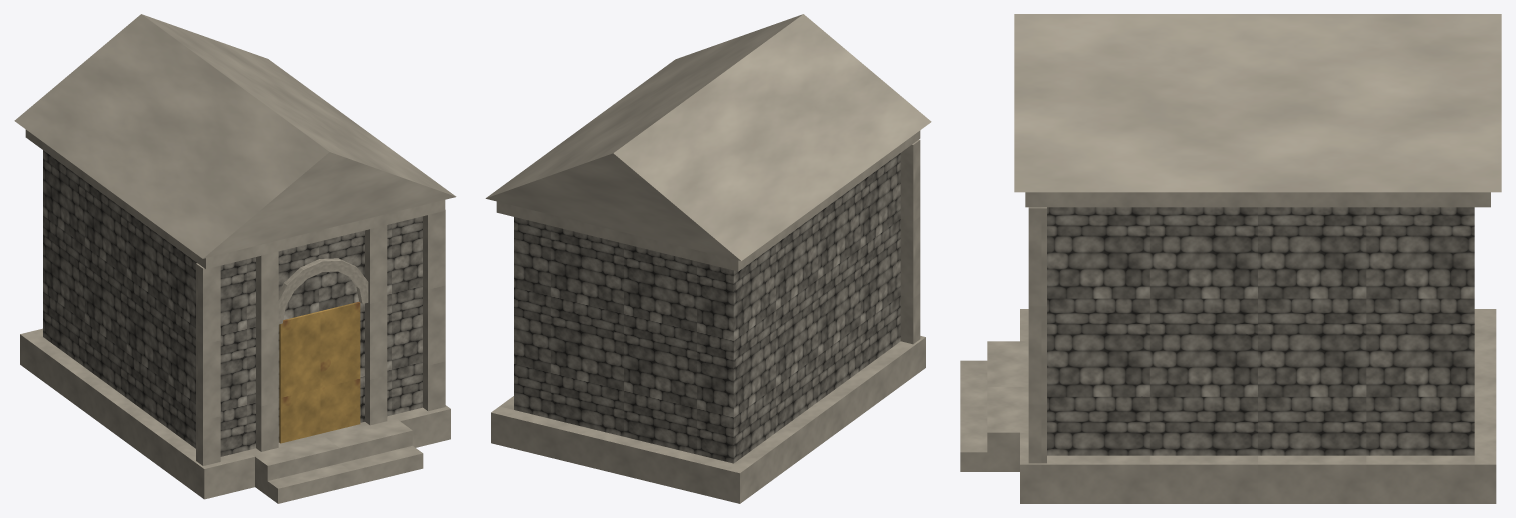
The model's file is Mausoleum_Small_1_LOD1.gltf.
3 renders of one model, left to right at view 1: azimuth 30°, elevation 25°; view 2: azimuth 150°, elevation 25°; view 3: azimuth 270°, elevation 25°, orthographic. The views are drawn at different scales.
Parts seen in each view (by area): view 1: Mausoleum_Small_1_LOD1; view 2: Mausoleum_Small_1_LOD1; view 3: Mausoleum_Small_1_LOD1.
Boxes of the visible parts, <box> form: Mausoleum_Small_1_LOD1: <box>14,14,456,503</box>; Mausoleum_Small_1_LOD1: <box>485,14,931,503</box>; Mausoleum_Small_1_LOD1: <box>960,14,1501,503</box>.
Size of the model in its own units: 3.5 by 4.2 by 5.
3 materials, 3 textured.
